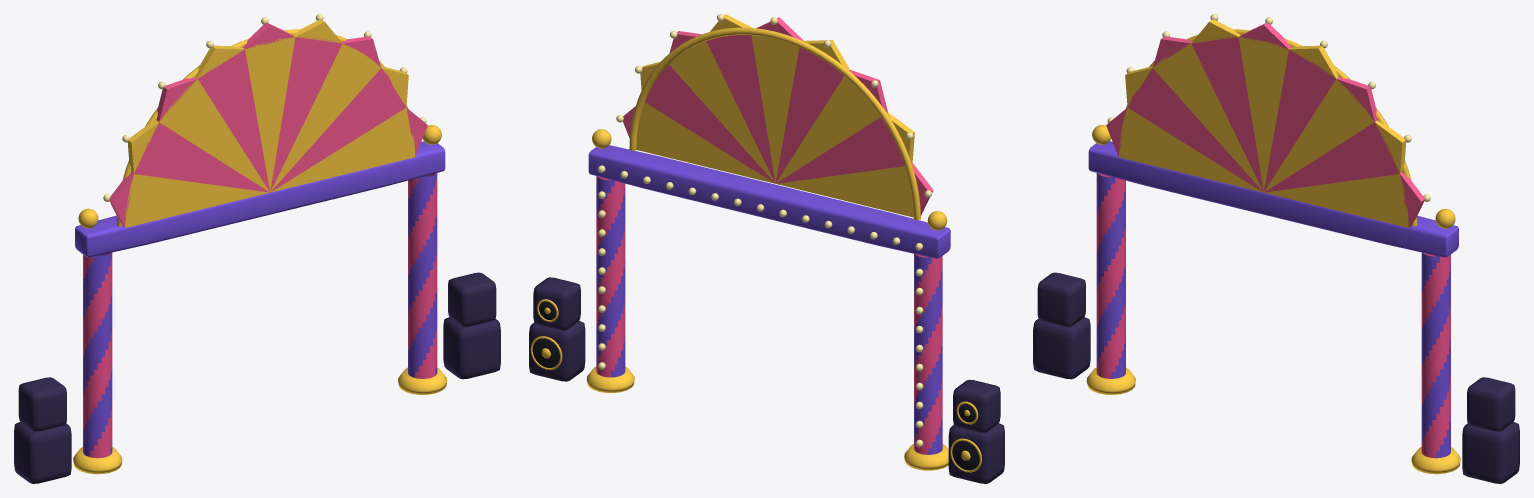
Rendered from LobbyEmoteArch.obj.
3 renders of one model, left to right at view 1: azimuth 30°, elevation 25°; view 2: azimuth 150°, elevation 25°; view 3: azimuth 330°, elevation 25°, orthographic. The views are drawn at different scales.
Parts seen in each view (by area): view 1: FanA, FanB, Frame, Speakers, Stripes, Trim; view 2: FanA, Frame, FanB, Speakers, Trim, Stripes, Bulbs, Cones; view 3: FanA, FanB, Frame, Speakers, Stripes, Trim.
Boxes of the visible parts, bbox=[...] form: FanA: bbox=[125, 19, 415, 227]; FanB: bbox=[109, 23, 427, 227]; Frame: bbox=[75, 141, 445, 456]; Speakers: bbox=[14, 272, 500, 483]; Stripes: bbox=[83, 173, 437, 458]; Trim: bbox=[73, 29, 447, 474]; FanA: bbox=[636, 14, 914, 217]; Frame: bbox=[588, 145, 950, 454]; FanB: bbox=[623, 17, 933, 215]; Speakers: bbox=[529, 277, 1004, 483]; Trim: bbox=[530, 27, 981, 472]; Stripes: bbox=[596, 176, 942, 454]; Bulbs: bbox=[597, 14, 931, 447]; Cones: bbox=[532, 301, 979, 470]; FanA: bbox=[1118, 19, 1408, 227]; FanB: bbox=[1106, 23, 1424, 227]; Frame: bbox=[1088, 141, 1458, 458]; Speakers: bbox=[1033, 272, 1519, 483]; Stripes: bbox=[1096, 173, 1450, 457]; Trim: bbox=[1086, 29, 1460, 474].
Size of the model in its own units: 40.6 by 33.8 by 4.11.
